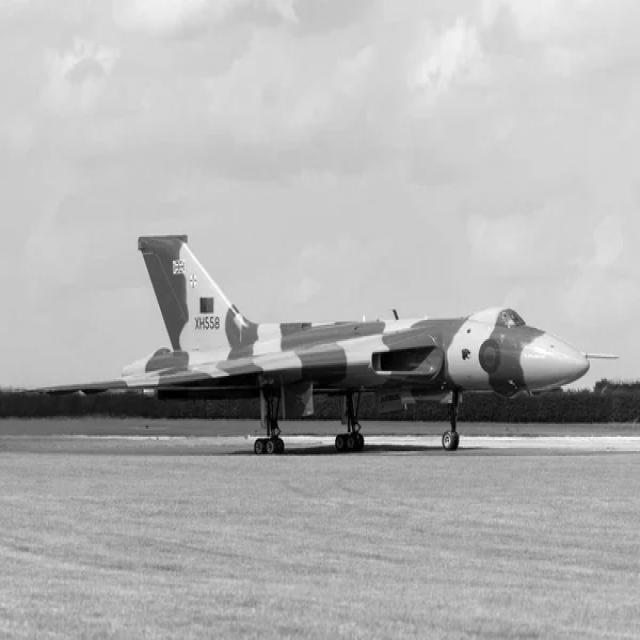Aircraft: (101, 224, 604, 458)
